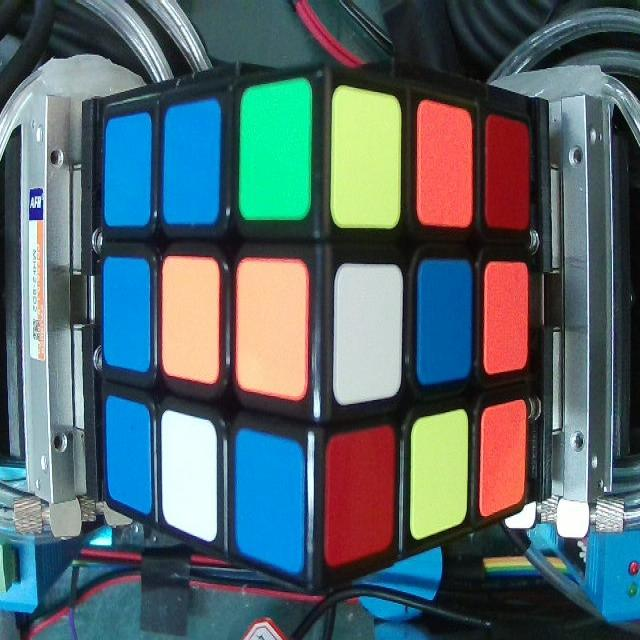b: (237, 437, 301, 563), (165, 112, 215, 217), (422, 266, 469, 375), (107, 407, 150, 505), (108, 123, 150, 223), (105, 266, 146, 368)
g: (240, 93, 309, 214)
o: (238, 272, 305, 388), (419, 113, 472, 220), (162, 268, 216, 371), (486, 270, 528, 366), (484, 415, 524, 496)
r: (327, 446, 393, 544), (488, 124, 526, 223)
w: (337, 277, 399, 392), (162, 419, 215, 530)
y: (336, 97, 398, 226), (413, 433, 467, 520)
